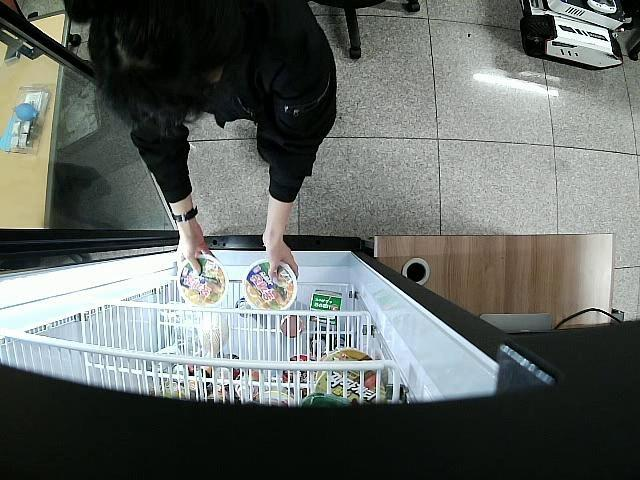09_yukGaeJang: (241, 260, 296, 310), (177, 254, 228, 305)
